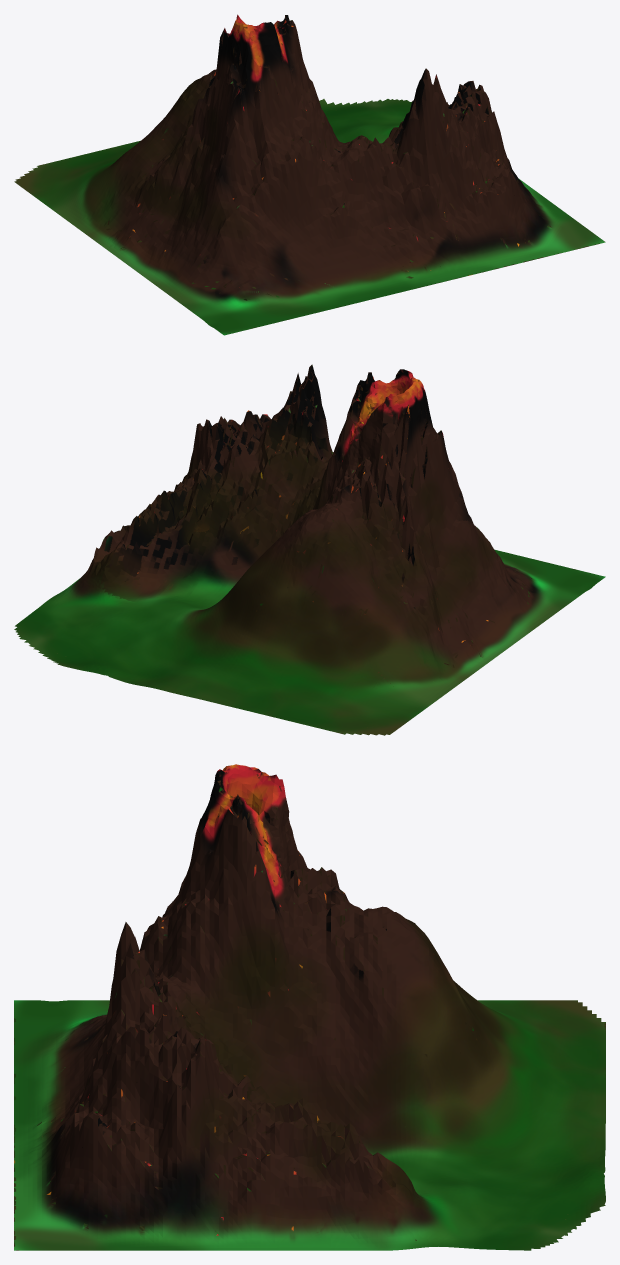
The model's file is pompeii.glb.
3 views of the same model, one above another, from view 1: azimuth 30°, elevation 25°; view 2: azimuth 150°, elevation 25°; view 3: azimuth 270°, elevation 25° (orthographic). The views are drawn at different scales.
Visible parts, largest first — view 1: Landscape; view 2: Landscape; view 3: Landscape.
Boxes of the visible parts, left/top/right/bottom form: Landscape: left=14, top=14, right=605, bottom=335; Landscape: left=14, top=364, right=605, bottom=735; Landscape: left=14, top=764, right=605, bottom=1250.
Size of the model in its own units: 12 by 7.01 by 12.
1 material, 1 textured.
